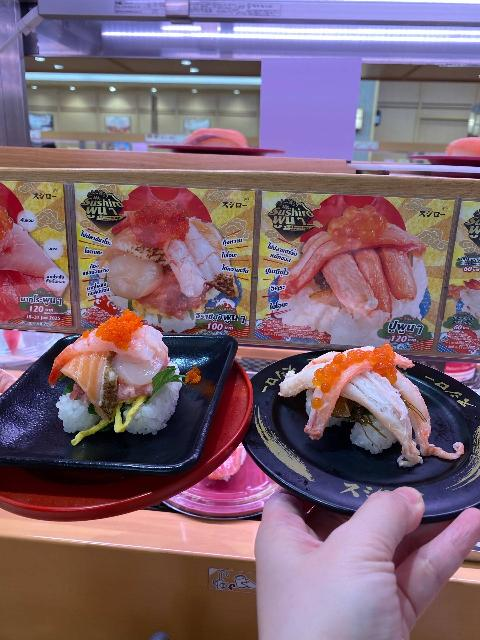janback: (256, 360, 480, 519)
janred: (0, 322, 222, 519), (152, 465, 278, 518), (144, 135, 298, 166), (419, 155, 480, 167)
